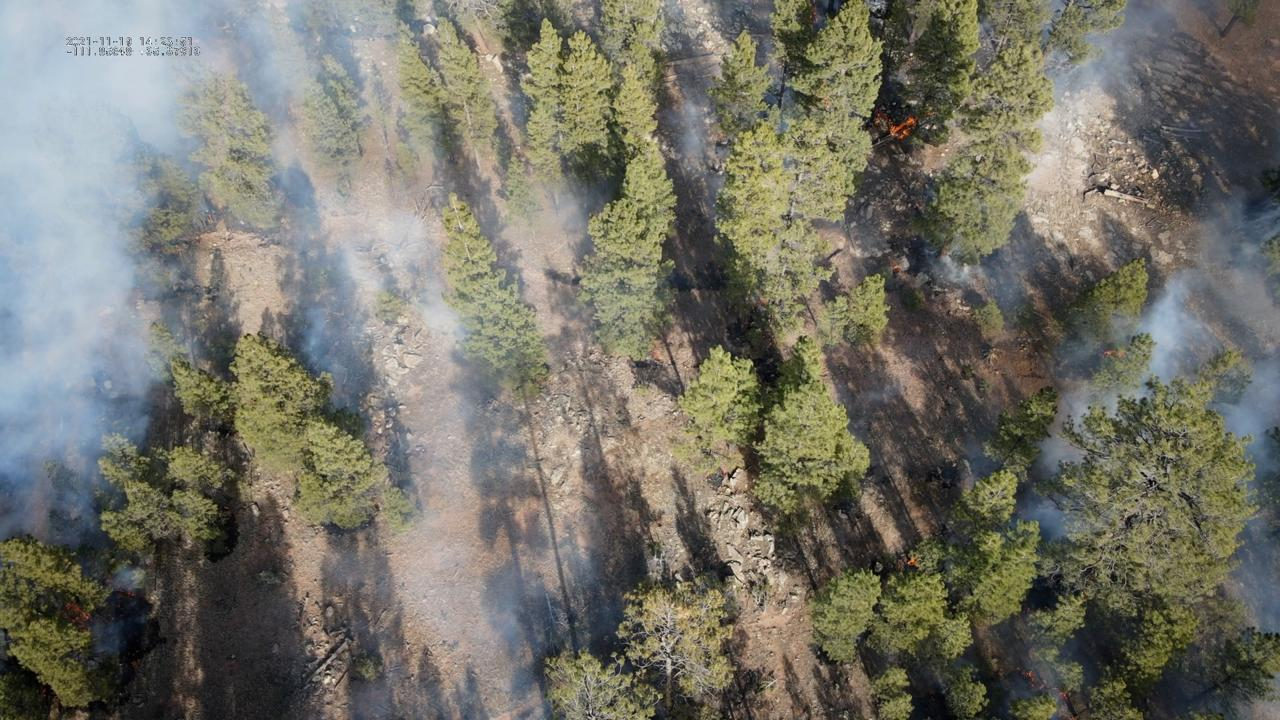fire: (873, 109, 917, 142), (61, 596, 92, 634), (1021, 666, 1037, 690), (1098, 348, 1126, 359), (891, 260, 904, 273), (905, 557, 917, 570), (125, 588, 137, 601), (1057, 691, 1070, 702)
smoke: (0, 0, 630, 720), (995, 183, 1280, 720), (919, 0, 1180, 323), (741, 0, 806, 182), (657, 87, 730, 220), (817, 378, 903, 445), (811, 0, 851, 37)
